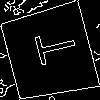T: (24, 27, 79, 69)
